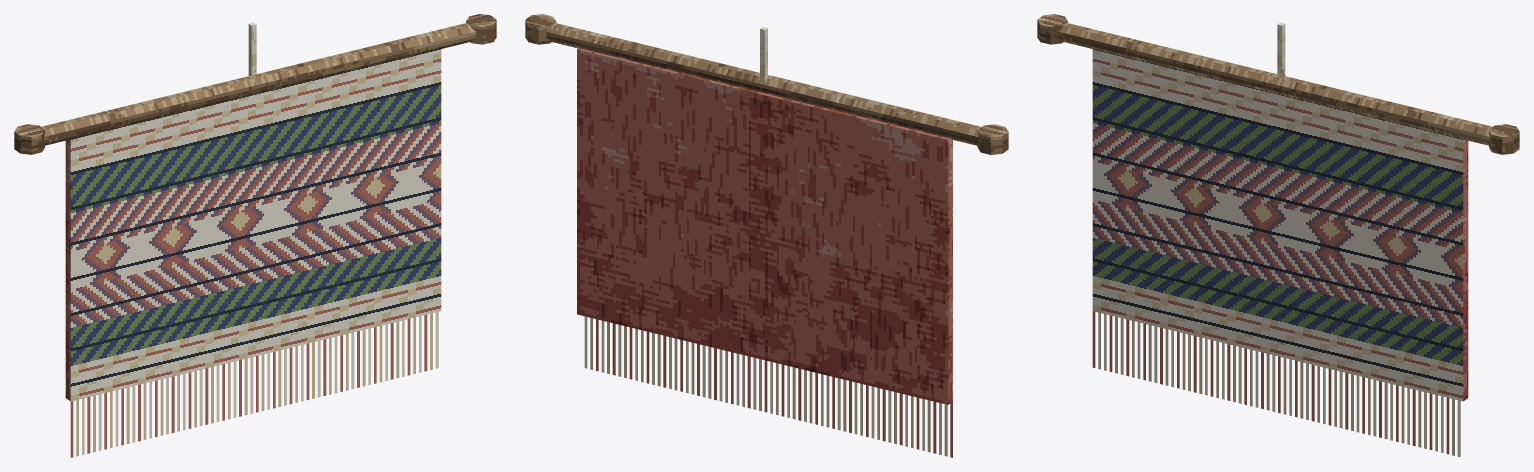
The model's file is sv_andeanweave.glb.
3 views of the same model, side by side, from view 1: azimuth 30°, elevation 25°; view 2: azimuth 150°, elevation 25°; view 3: azimuth 330°, elevation 25° (orthographic).
Visible parts, largest first — view 1: cloth, tassels, rod, knob-1, knob1; view 2: cloth, tassels, rod, knob-1, knob1; view 3: cloth, tassels, rod, knob1, knob-1.
Boxes of the visible parts, x1=… form: cloth: x1=65, y1=49, x2=441, y2=401; tassels: x1=70, y1=312, x2=438, y2=457; rod: x1=41, y1=23, x2=475, y2=145; knob-1: x1=14, y1=124, x2=44, y2=154; knob1: x1=466, y1=14, x2=496, y2=44; cloth: x1=577, y1=48, x2=952, y2=404; tassels: x1=584, y1=316, x2=952, y2=457; rod: x1=546, y1=23, x2=981, y2=145; knob-1: x1=977, y1=124, x2=1008, y2=154; knob1: x1=525, y1=14, x2=556, y2=44; cloth: x1=1092, y1=49, x2=1468, y2=401; tassels: x1=1092, y1=311, x2=1460, y2=457; rod: x1=1058, y1=23, x2=1492, y2=145; knob1: x1=1489, y1=124, x2=1519, y2=154; knob-1: x1=1037, y1=14, x2=1067, y2=44.
Bounding box in the file's own units: 1.77 × 1.37 × 0.0924.
Materials: 2 (2 with a texture image).
